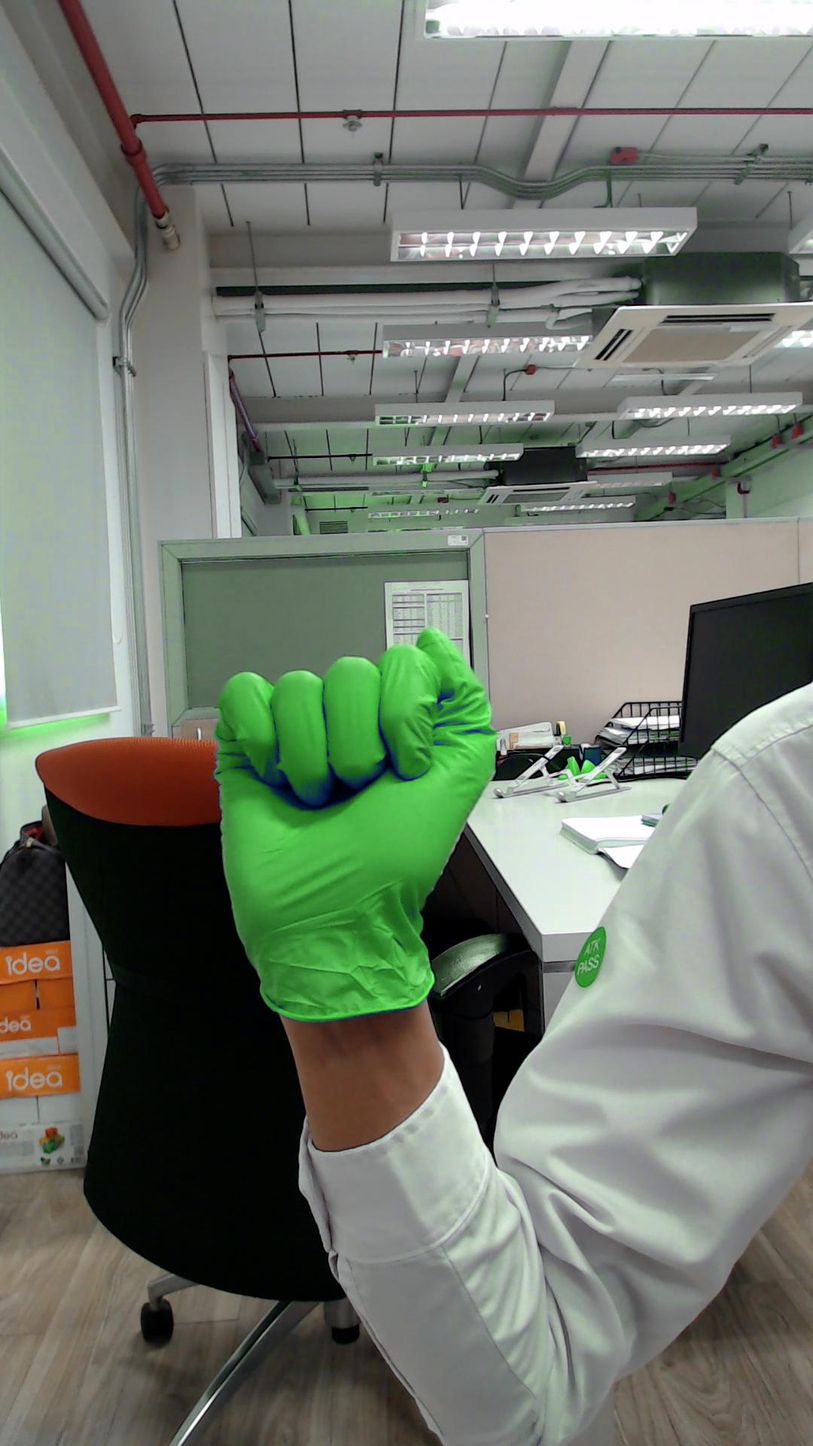gloves: (205, 610, 509, 900)
